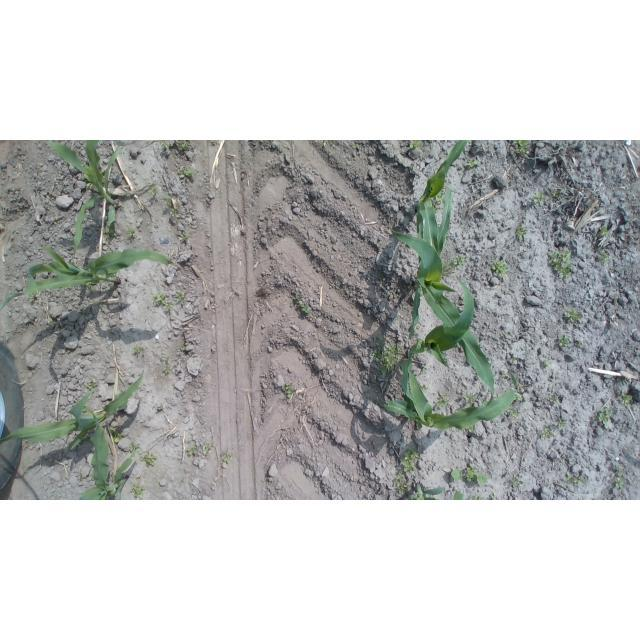Maize: (382, 183, 503, 393), (0, 366, 152, 497), (377, 276, 499, 398), (0, 236, 172, 316), (46, 140, 131, 256), (373, 374, 526, 434), (407, 140, 480, 256), (67, 405, 141, 500), (403, 477, 485, 500)
Weeds: (370, 335, 402, 377), (449, 467, 492, 488), (546, 249, 574, 279), (392, 472, 416, 497), (399, 448, 422, 473), (541, 418, 567, 440), (158, 140, 195, 154), (559, 334, 584, 354), (611, 468, 630, 493), (561, 471, 588, 488), (561, 304, 583, 324), (591, 408, 613, 428), (152, 290, 173, 310), (292, 293, 311, 315), (512, 140, 532, 160), (459, 391, 484, 407), (432, 390, 451, 410), (490, 259, 509, 278), (173, 289, 191, 309), (160, 355, 176, 377), (108, 424, 125, 444), (100, 223, 121, 238), (463, 157, 485, 171), (139, 452, 157, 469), (546, 392, 564, 409), (509, 475, 529, 490), (165, 198, 178, 221), (452, 254, 469, 271), (503, 405, 522, 420), (432, 189, 445, 210), (618, 391, 633, 409), (132, 483, 147, 500), (200, 441, 216, 455), (132, 344, 148, 358), (177, 168, 194, 181), (221, 451, 236, 465), (177, 231, 191, 246), (125, 226, 140, 240), (597, 251, 611, 266), (283, 383, 296, 399), (514, 227, 528, 240), (408, 141, 426, 151), (532, 193, 547, 205), (185, 446, 199, 458), (86, 379, 98, 393), (415, 363, 429, 374), (550, 189, 561, 202), (128, 443, 141, 454), (149, 186, 162, 197), (349, 140, 361, 150), (598, 225, 608, 236), (489, 492, 498, 501), (320, 140, 329, 149), (543, 361, 552, 370), (504, 330, 513, 339), (510, 357, 518, 366)
